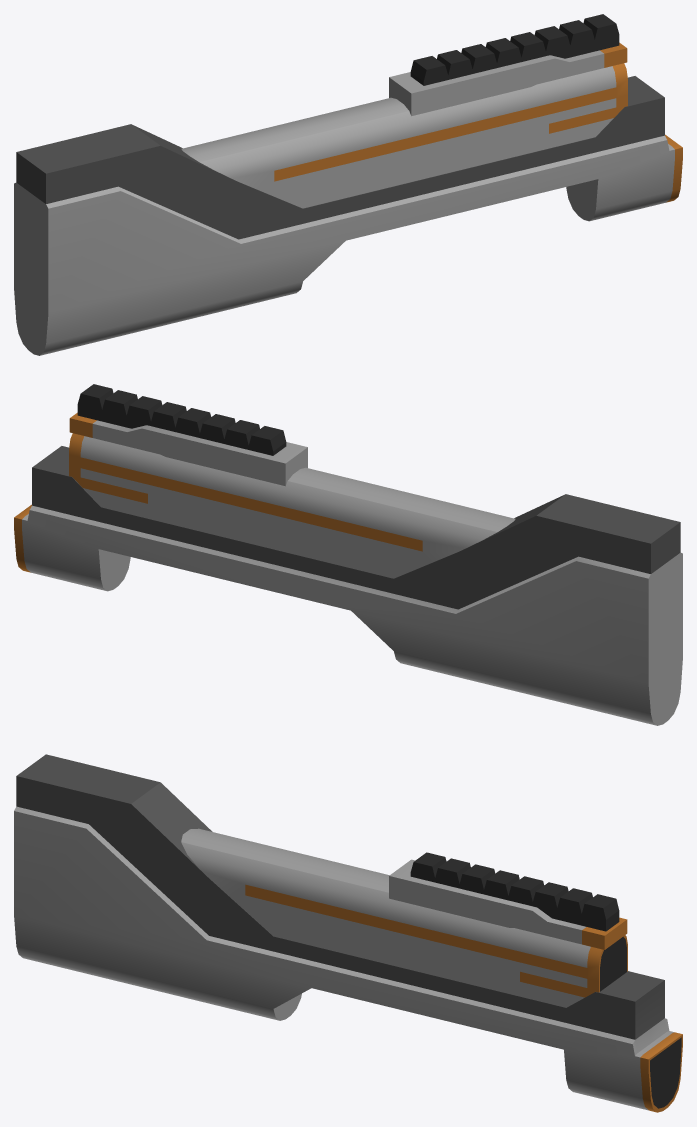
File: quaternius-modular-sci-fi-guns-body-grenade-3.glb
3 views of the same model, one above another, from view 1: azimuth 30°, elevation 25°; view 2: azimuth 150°, elevation 25°; view 3: azimuth 330°, elevation 25° (orthographic).
Visible parts, largest first — view 1: Body_Grenade_3; view 2: Body_Grenade_3; view 3: Body_Grenade_3.
Boxes of the visible parts, x1,y1,x2,y2 form: Body_Grenade_3: (14, 14, 682, 355); Body_Grenade_3: (14, 384, 682, 725); Body_Grenade_3: (14, 754, 682, 1112).
Size of the model in its own units: 1.46 by 0.4226 by 0.137.
